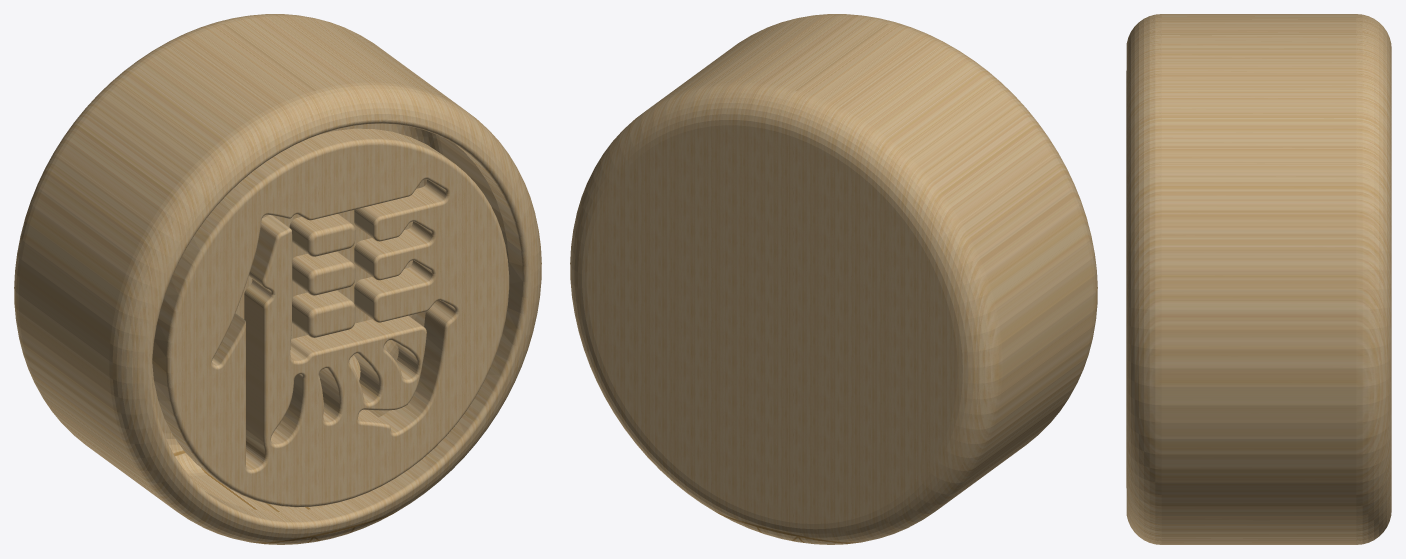
Rendered from h01_chess_red_horse_wood.obj.
The picture shows the model from 3 angles, left to right: view 1: azimuth 30°, elevation 25°; view 2: azimuth 150°, elevation 25°; view 3: azimuth 270°, elevation 25°; orthographic projection. The views are drawn at different scales.
Bounding box in the file's own units: 0.03 × 0.03 × 0.015.
1 material, 1 textured.
